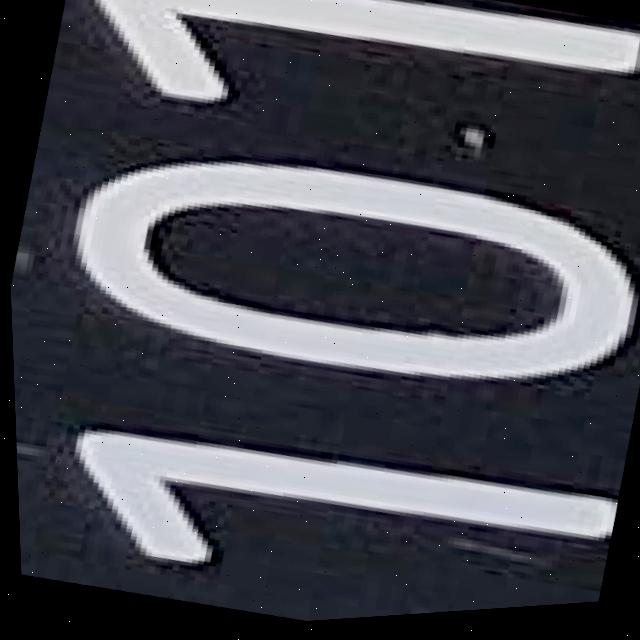character: (38, 83, 640, 457), (38, 366, 623, 638), (56, 0, 640, 216)
